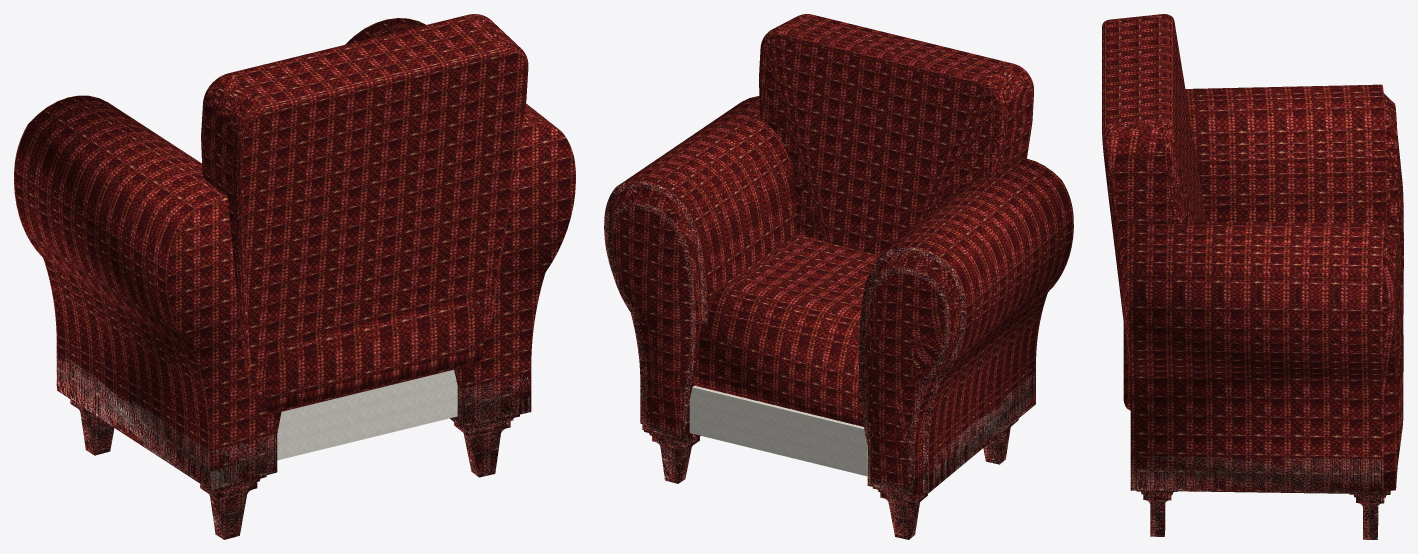
3 renders of one model, left to right at view 1: azimuth 30°, elevation 25°; view 2: azimuth 150°, elevation 25°; view 3: azimuth 270°, elevation 25°, orthographic. The views are drawn at different scales.
Visible parts, largest first — view 1: group_0_ID85, group_0_ID45, group_0_ID109, group_0_ID3, group_0_ID53, group_0_ID77, group_0_ID61, group_0_ID93, group_0_ID69; view 2: group_0_ID85, group_0_ID45, group_0_ID3, group_0_ID109, group_0_ID37, group_0_ID101, group_0_ID53, group_0_ID77, group_0_ID61, group_0_ID93; view 3: group_0_ID109, group_0_ID45, group_0_ID85, group_0_ID61, group_0_ID101, group_0_ID69, group_0_ID37, group_0_ID3.
Boxes of the visible parts, x1,y1,x2,y2 form: group_0_ID85: (201, 14, 528, 393); group_0_ID45: (14, 95, 281, 451); group_0_ID109: (345, 18, 575, 388); group_0_ID3: (262, 297, 483, 414); group_0_ID53: (56, 351, 277, 490); group_0_ID77: (277, 370, 457, 460); group_0_ID61: (450, 373, 531, 427); group_0_ID93: (200, 482, 257, 539); group_0_ID69: (454, 421, 510, 477); group_0_ID85: (759, 14, 1033, 255); group_0_ID45: (871, 157, 1073, 495); group_0_ID3: (694, 234, 879, 426); group_0_ID109: (609, 96, 797, 441); group_0_ID37: (865, 274, 944, 485); group_0_ID101: (613, 209, 689, 430); group_0_ID53: (858, 246, 1035, 539); group_0_ID77: (689, 385, 867, 476); group_0_ID61: (604, 181, 707, 483); group_0_ID93: (983, 419, 1018, 464); group_0_ID109: (1129, 221, 1396, 491); group_0_ID45: (1185, 84, 1398, 262); group_0_ID85: (1102, 14, 1206, 374); group_0_ID61: (1130, 224, 1397, 539); group_0_ID101: (1395, 249, 1403, 474); group_0_ID69: (1143, 494, 1171, 536); group_0_ID37: (1397, 133, 1403, 313); group_0_ID3: (1123, 323, 1130, 410).
Bounding box in the file's own units: 0.6337 × 0.6428 × 0.4303.
Materials: 2 (2 with a texture image).
